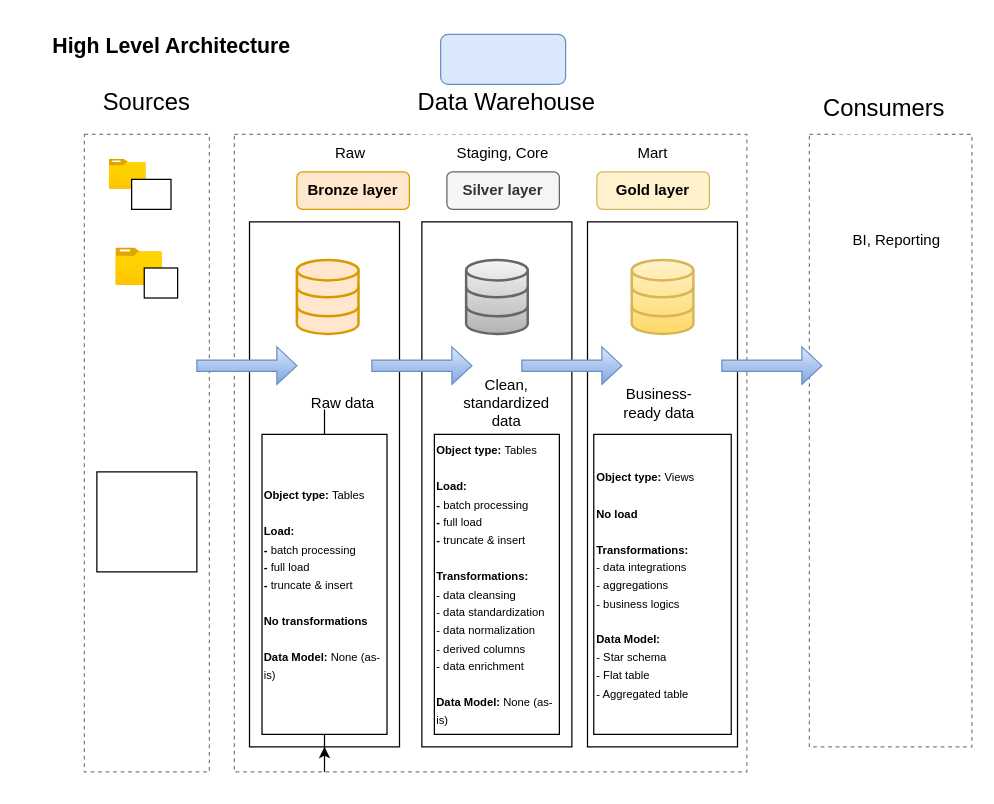
Image size: 994x804. Some labels were removed from this diagram. Here are the shapes that lost their labels. From the top down, the box of each, then its label:
(439, 33, 566, 84): DB: PostgreSQL
(130, 178, 171, 209): CRM
(143, 267, 178, 298): ERP
(808, 133, 972, 747): Ad-hoc SQL queries ML
(96, 471, 197, 572): Object type: CSV files Interface: files in folder
